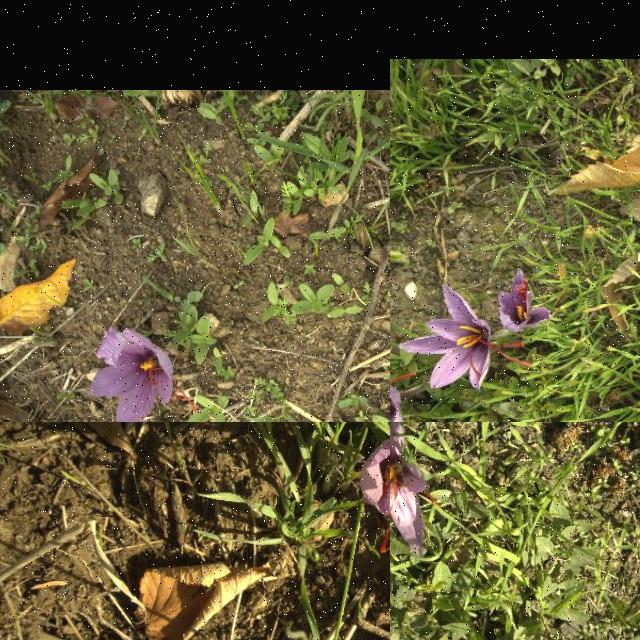flower: (398, 284, 532, 390), (89, 326, 198, 422), (390, 422, 436, 578), (359, 437, 390, 555), (498, 268, 550, 332)
